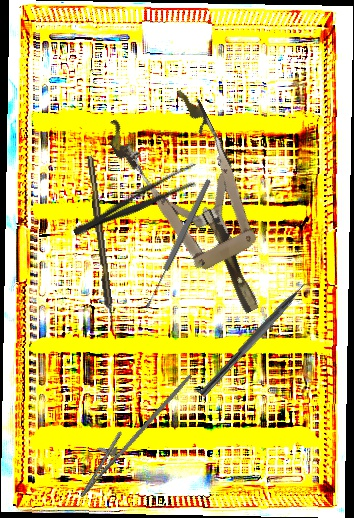Chopper: (199, 271, 322, 405)
Dressing Forceps: (69, 159, 204, 244)
Hook Surgical: (86, 155, 116, 333)
Needle Holder: (69, 355, 193, 510)
Speculum: (101, 81, 296, 334)
Surgical Spoon: (142, 177, 213, 311)
